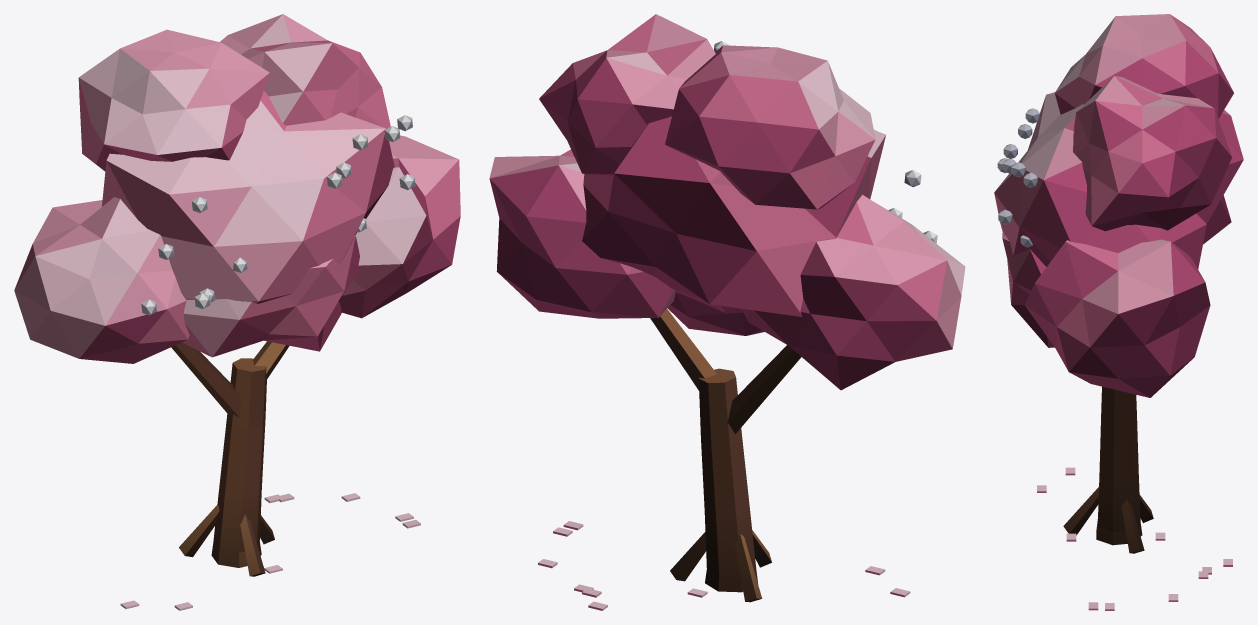
File: tree_cherry.glb
3 views of the same model, side by side, from view 1: azimuth 30°, elevation 25°; view 2: azimuth 150°, elevation 25°; view 3: azimuth 270°, elevation 25° (orthographic). The views are drawn at different scales.
Parts seen in each view (by area): view 1: tree_cherry; view 2: tree_cherry; view 3: tree_cherry.
Part boxes in pixels (x1=…): tree_cherry: x1=14, y1=14, x2=460, y2=610; tree_cherry: x1=489, y1=14, x2=965, y2=610; tree_cherry: x1=994, y1=14, x2=1243, y2=610.
Size of the model in its own units: 1.92 by 2.2 by 1.03.
